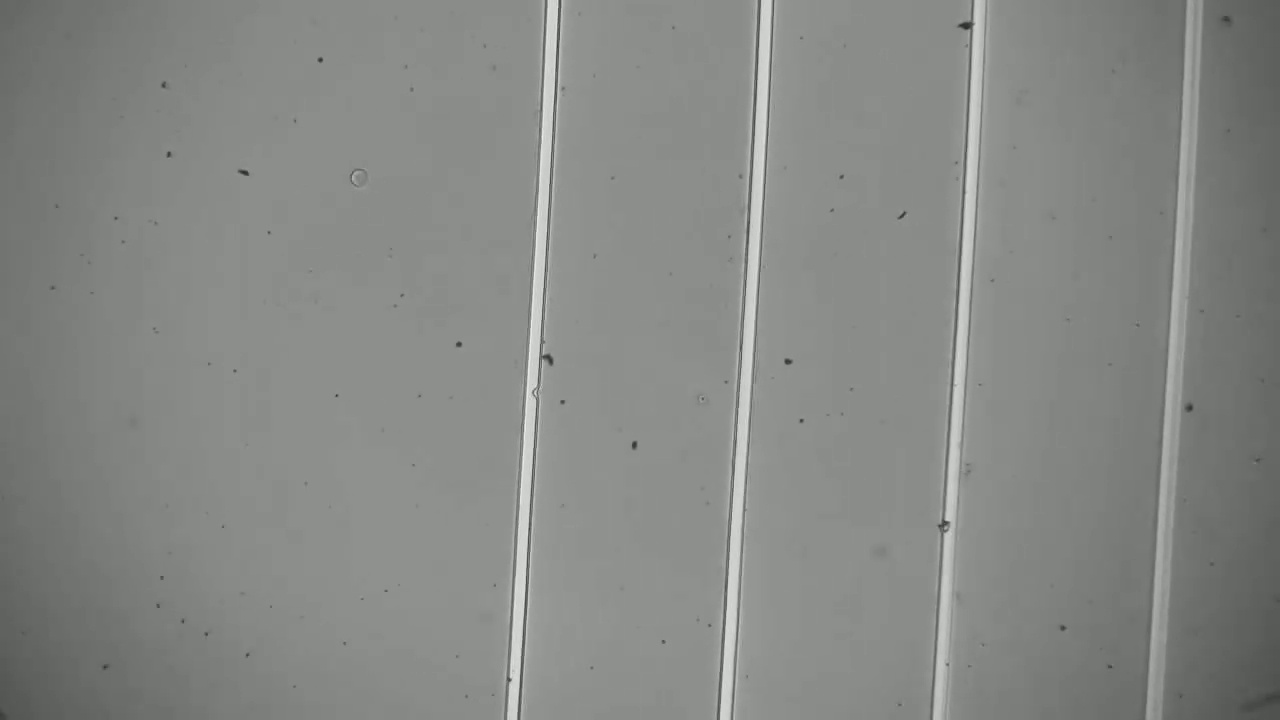edge_bite: (518, 380, 546, 406)
stains_enbedded: (930, 515, 961, 541)
